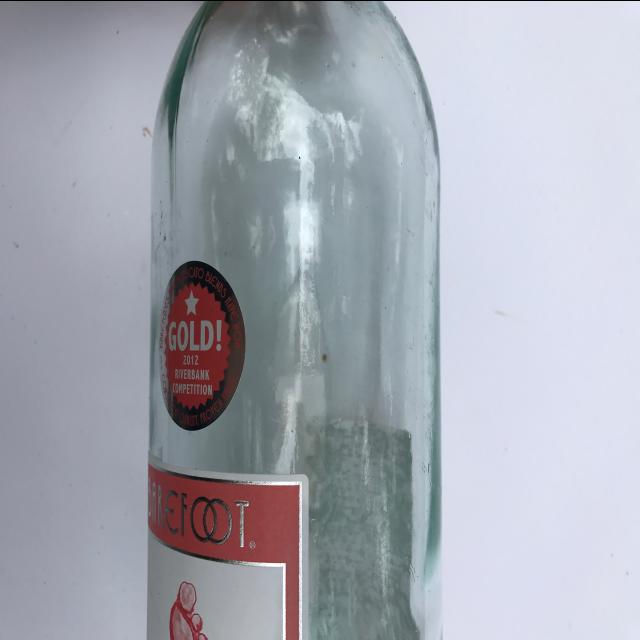glass: (104, 2, 470, 640)
